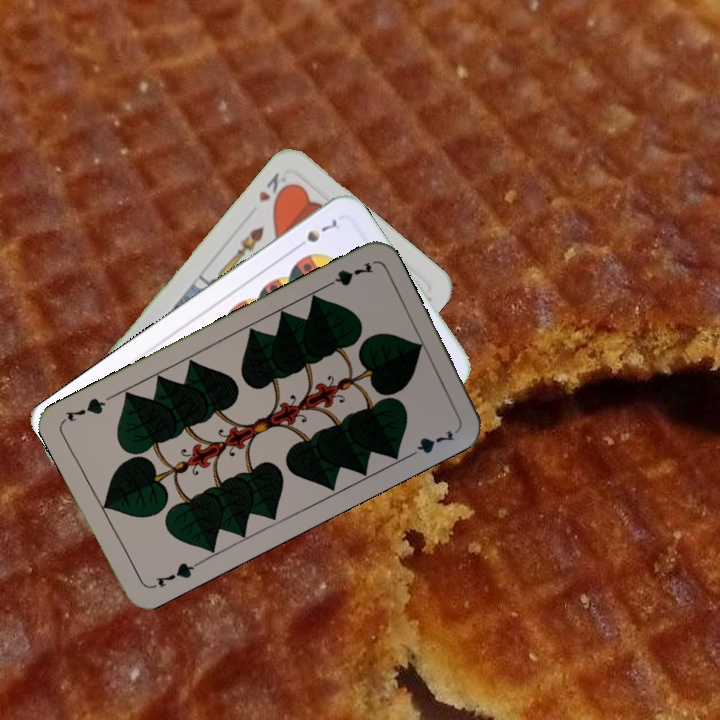G7: (319, 257, 376, 292), (146, 558, 202, 592)
HK: (254, 168, 293, 208)
S7: (290, 214, 340, 252)
